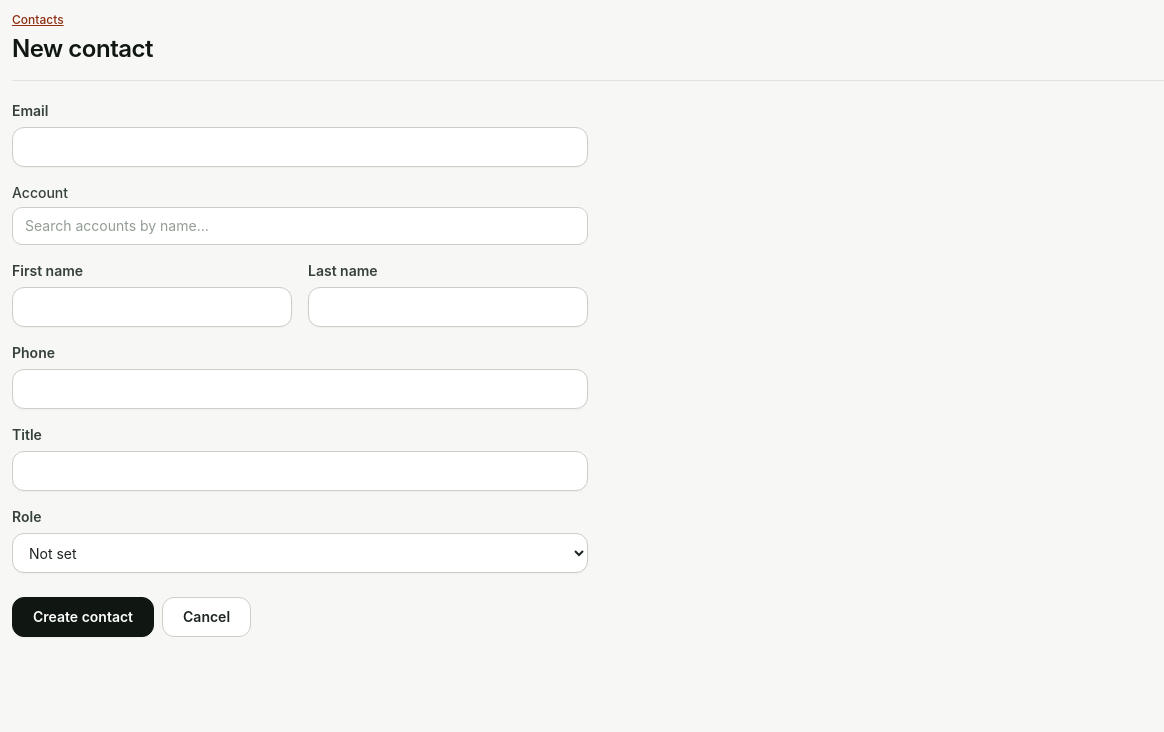
Test case: ContactFormPage — create › warns about a duplicate email after saving, without blocking or merging
This screenshot has width=1164, height=732.
In the field labelled "Email": (300,147) [12,127,588,167], type "ada@acme.example"
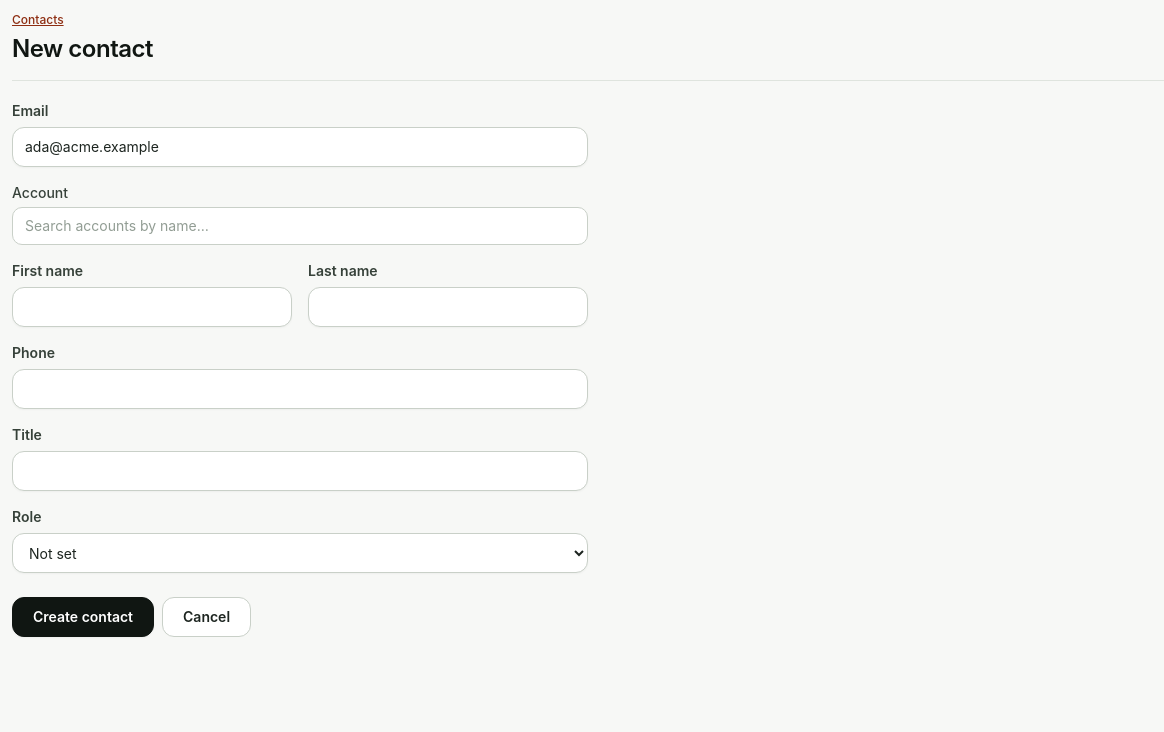
In the dropdown labelled "Account": (300,226) [12,207,588,245], type "Acme Corp"
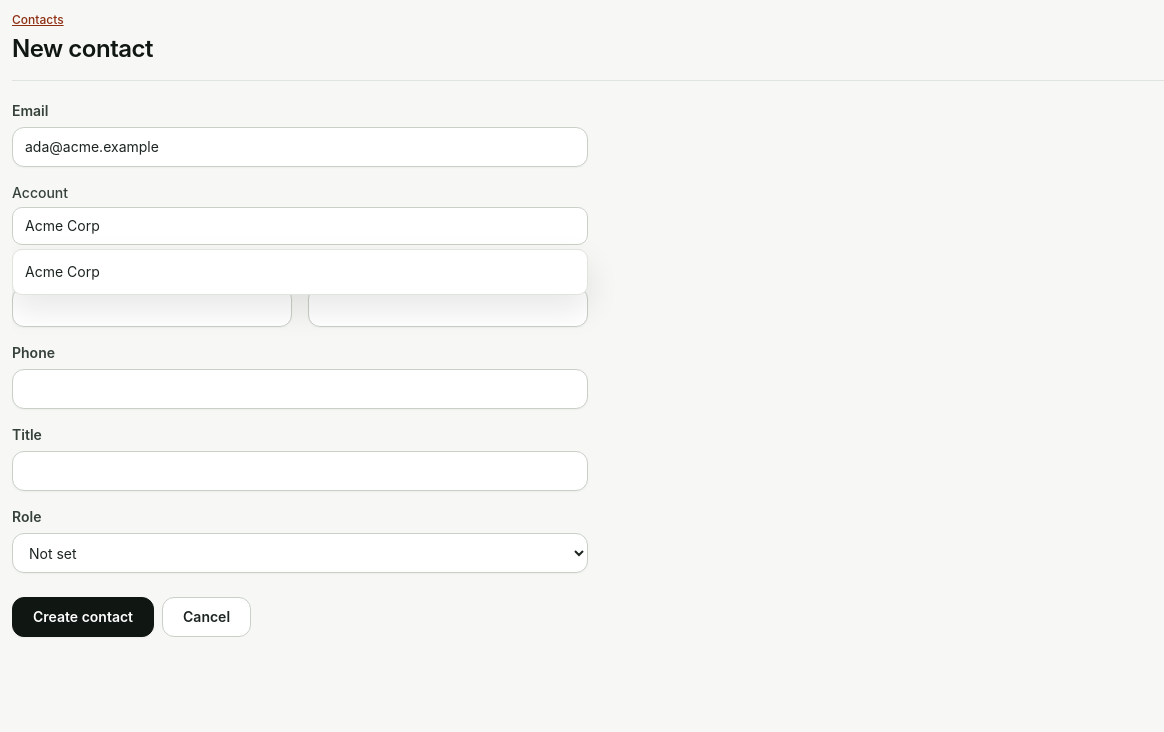
Click the button "Acme Corp": (62,272) [13,254,587,290]
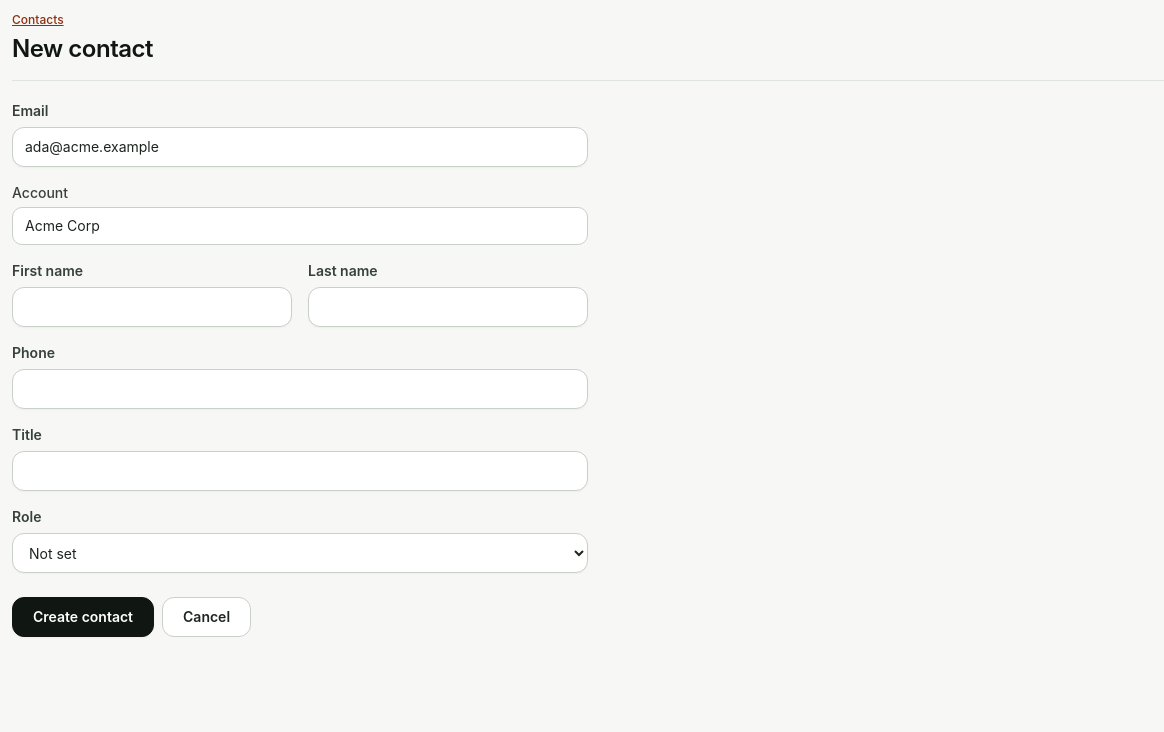
Click the button "Create contact": (83,617) [12,597,154,637]
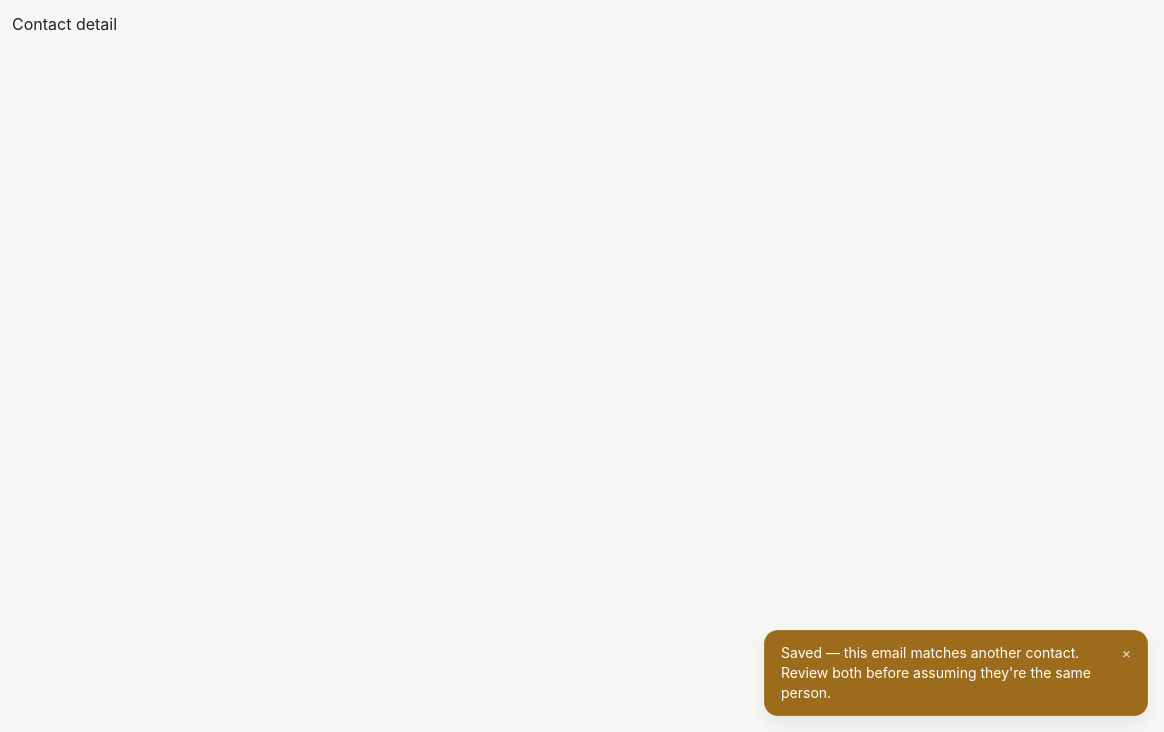
Now the text "Saved — this email matches another contact. Review both before assuming they're the same person." is shown, box [781,644,1091,701]
Now the text "Contact detail" is shown, box [12,14,117,34]
